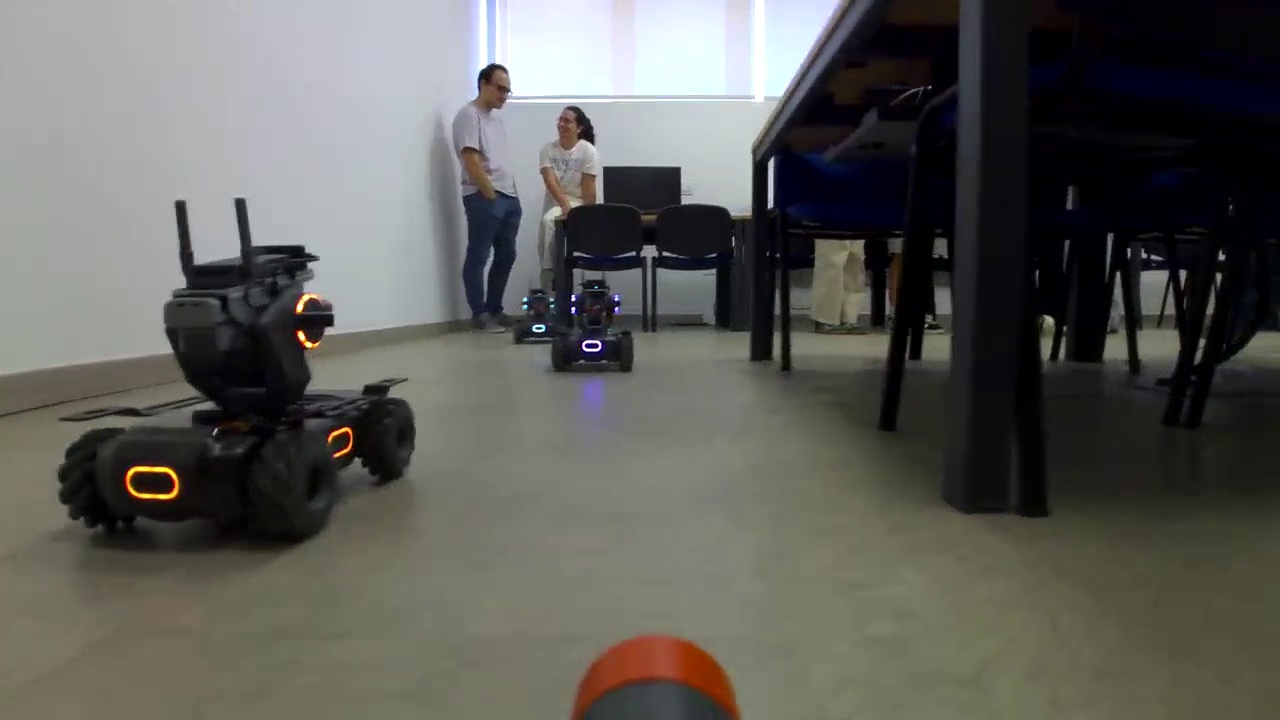robot: (53, 262, 425, 535), (548, 277, 645, 380), (520, 285, 573, 337)
